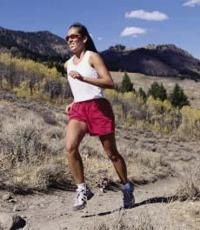person: (64, 23, 136, 211)
